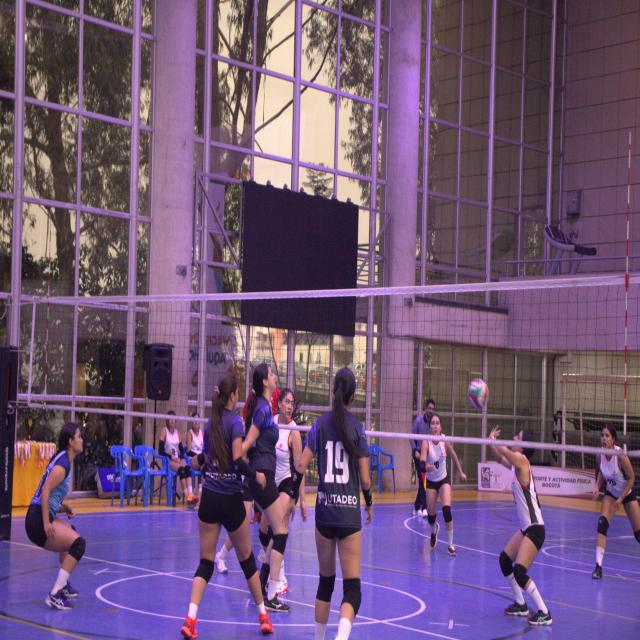volleyball: (468, 377, 488, 411)
